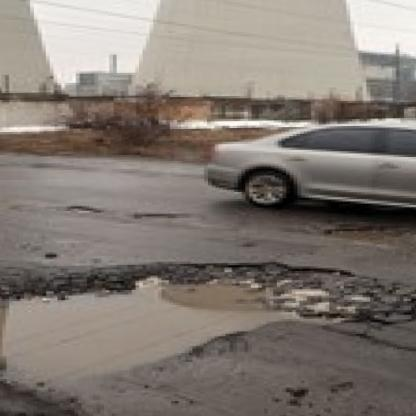pothole: (0, 257, 416, 392), (134, 211, 179, 221), (67, 203, 104, 215)
